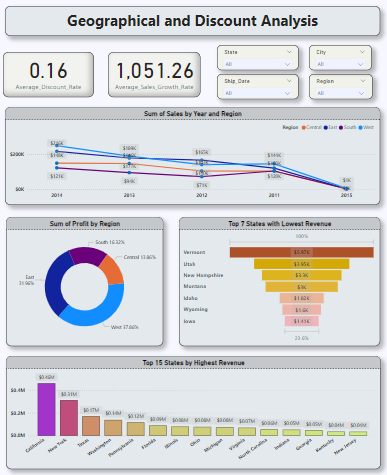

What the dashboard file says about the page in this screenshot:
{"tool":"powerbi","page":{"name":"Page 3","canvas":[1000,1200],"ordinal":2},"visuals":[{"type":"textbox","box":[25,17.5,937.5,75],"z":0},{"type":"columnChart","title":"Top 15 States by Highest Revenue","fields":{"Category":["Superstore_Cleaned.State"],"Y":["Sum(Superstore_Cleaned.Sales)"]},"box":[26.7,893.3,936.7,283.3],"z":1},{"type":"donutChart","fields":{"Y":["Sum(Superstore_Cleaned.Profit)"],"Category":["Superstore_Cleaned.Region"]},"box":[27.5,545,392.5,322.5],"z":2},{"type":"funnel","title":"Top 7 States with Lowest Revenue","fields":{"Y":["Sum(Superstore_Cleaned.Sales)"],"Category":["Superstore_Cleaned.State"]},"box":[460,545,502.5,322.5],"z":3},{"type":"lineChart","fields":{"Category":["Superstore_Cleaned.Year"],"Y":["Sum(Superstore_Cleaned.Sales)"],"Series":["Superstore_Cleaned.Region"]},"box":[25,270,937.5,245],"z":4},{"type":"card","fields":{"Values":["Superstore_Cleaned.Average_Discount_Rate"]},"box":[20,131.4,227.1,112.9],"z":5},{"type":"card","fields":{"Values":["Superstore_Cleaned.Average_Sales_Rate"]},"box":[281.4,131.4,231.4,112.9],"z":6},{"type":"slicer","fields":{"Values":["Superstore_Cleaned.State"]},"box":[554.3,114.3,204.3,62.9],"z":7},{"type":"slicer","fields":{"Values":["Superstore_Cleaned.Region"]},"box":[785.7,188.6,158.6,62.9],"z":8},{"type":"slicer","fields":{"Values":["Superstore_Cleaned.City"]},"box":[785.7,114.3,157.1,62.9],"z":9},{"type":"slicer","fields":{"Values":["Superstore_Cleaned.Ship_Date"]},"box":[554.3,188.6,204.3,62.9],"z":10}]}

Visuals, with their boxes in screenshot pixels (x1, y1, x2, y2), scaled from the page's 1000x1200 canvas onto the 387x475 screenshot:
textbox: box(10, 7, 372, 37)
"Top 15 States by Highest Revenue" columnChart: box(10, 354, 373, 466)
donutChart - Sum(Superstore_Cleaned.Profit) x Superstore_Cleaned.Region: box(11, 216, 163, 343)
"Top 7 States with Lowest Revenue" funnel: box(178, 216, 372, 343)
lineChart - Superstore_Cleaned.Year x Sum(Superstore_Cleaned.Sales): box(10, 107, 372, 204)
card - Superstore_Cleaned.Average_Discount_Rate: box(8, 52, 96, 97)
card - Superstore_Cleaned.Average_Sales_Rate: box(109, 52, 198, 97)
slicer - Superstore_Cleaned.State: box(215, 45, 294, 70)
slicer - Superstore_Cleaned.Region: box(304, 75, 365, 100)
slicer - Superstore_Cleaned.City: box(304, 45, 365, 70)
slicer - Superstore_Cleaned.Ship_Date: box(215, 75, 294, 100)
